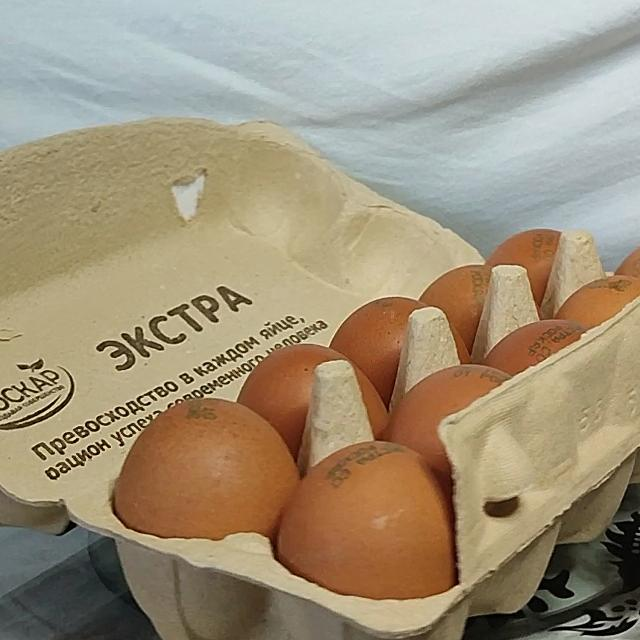egg: (0, 104, 640, 640)
